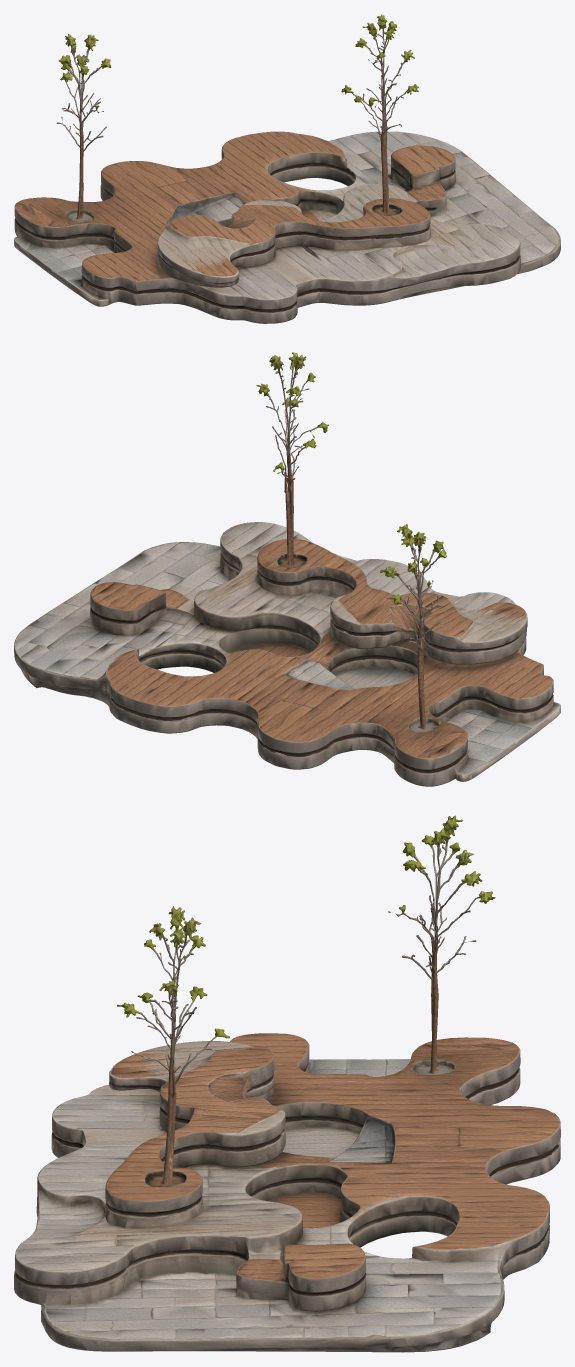
File: deckisle.glb
3 views of the same model, one above another, from view 1: azimuth 30°, elevation 25°; view 2: azimuth 150°, elevation 25°; view 3: azimuth 270°, elevation 25° (orthographic). The views are drawn at different scales.
Parts seen in each view (by area): view 1: tripo_node_9644e7e2-6c19-4288-a1f3-ad5e427e5658; view 2: tripo_node_9644e7e2-6c19-4288-a1f3-ad5e427e5658; view 3: tripo_node_9644e7e2-6c19-4288-a1f3-ad5e427e5658.
Part boxes in pixels (x1,y1,x2,y2): tripo_node_9644e7e2-6c19-4288-a1f3-ad5e427e5658: (14, 14, 560, 323); tripo_node_9644e7e2-6c19-4288-a1f3-ad5e427e5658: (14, 352, 560, 786); tripo_node_9644e7e2-6c19-4288-a1f3-ad5e427e5658: (14, 815, 560, 1352).
Size of the model in its own units: 0.91 by 0.5 by 0.7263.
1 material, 1 textured.
